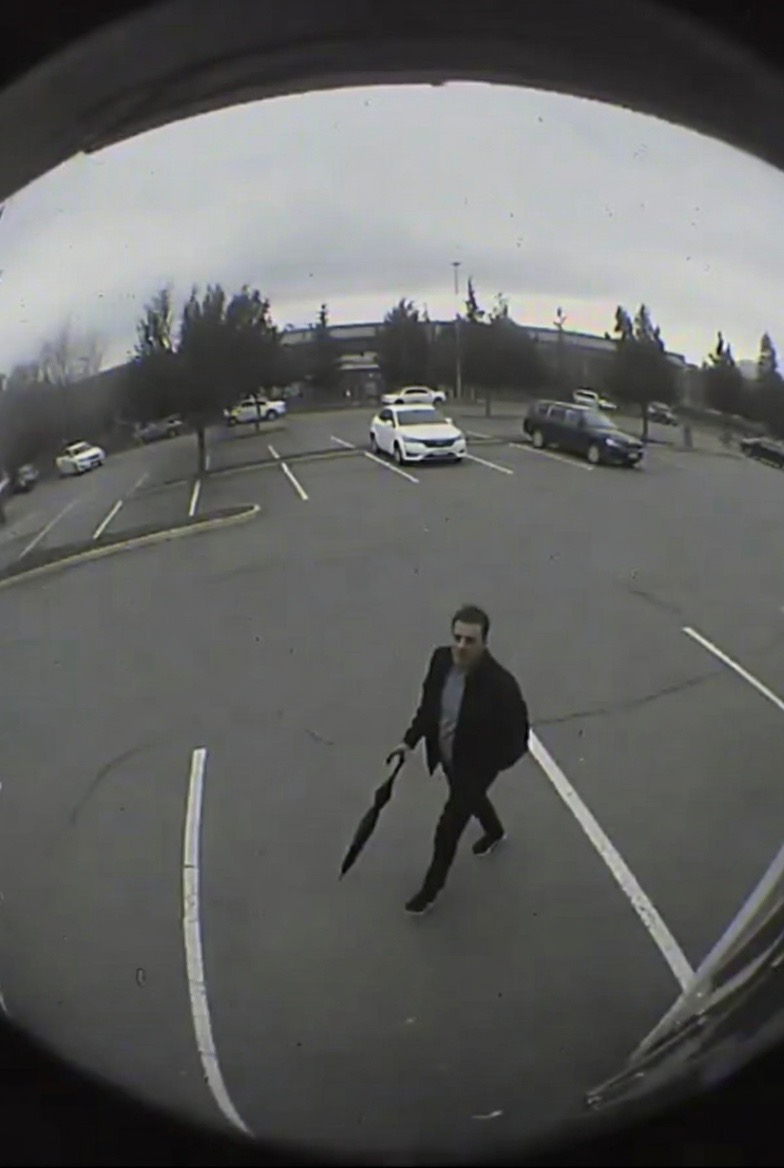person: (386, 606, 531, 915)
umbrella: (339, 751, 406, 880)
